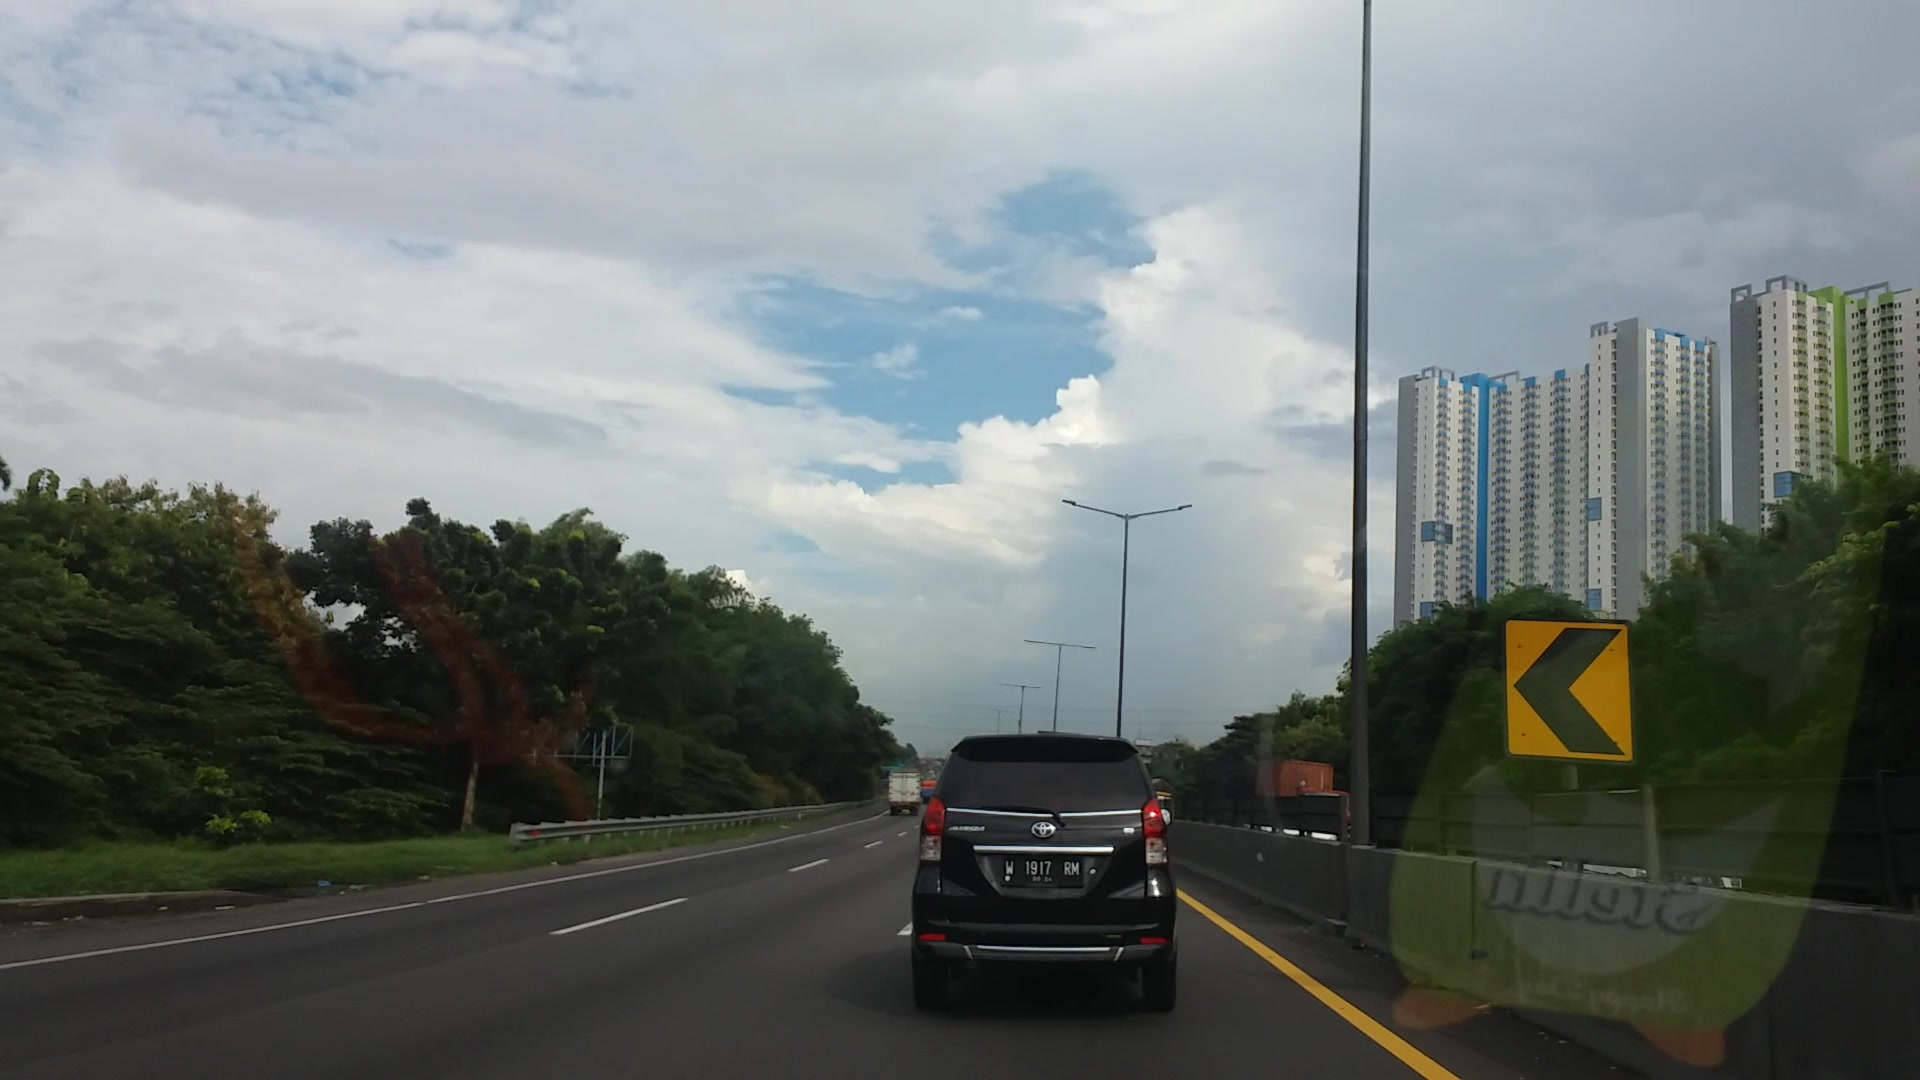plate_positive: (1002, 856, 1083, 885)
